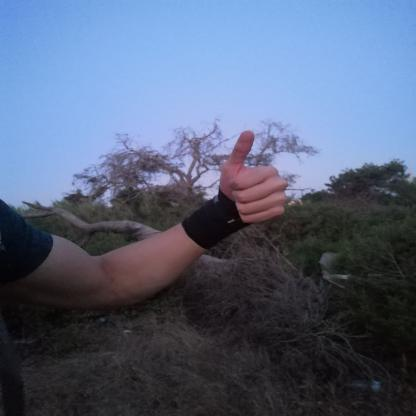ALIF: (201, 116, 298, 232)
